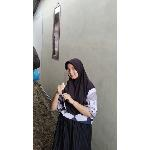Pisau: (57, 67, 71, 95)
